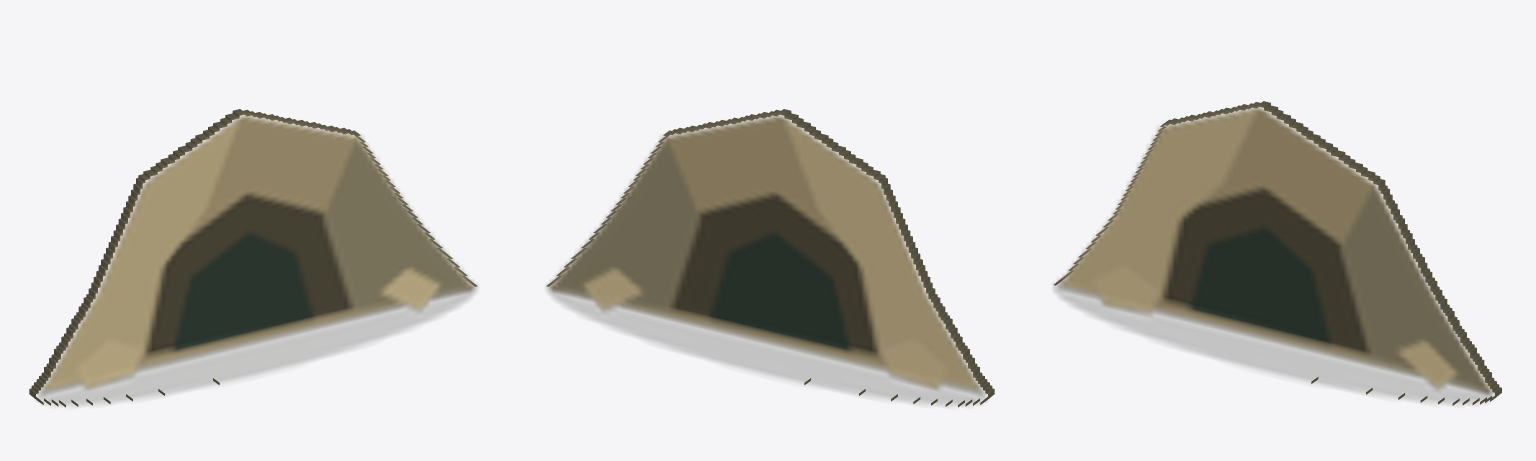
The model's file is RatMound.glb.
3 views of the same model, side by side, from view 1: azimuth 30°, elevation 25°; view 2: azimuth 150°, elevation 25°; view 3: azimuth 330°, elevation 25° (orthographic).
Parts seen in each view (by area): view 1: Visual; view 2: Visual; view 3: Visual.
Part boxes in pixels (bbox=[...]): Visual: bbox=[29, 109, 477, 407]; Visual: bbox=[546, 109, 994, 407]; Visual: bbox=[1053, 101, 1501, 405].
Bounding box in the file's own units: 3.2 × 2 × 0.08.
3 materials, 2 textured.
